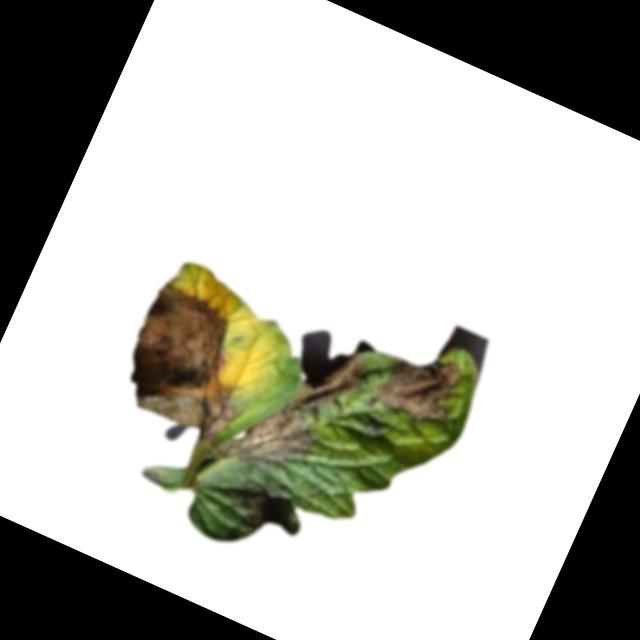Late_blight: (207, 314, 374, 505), (105, 277, 278, 451), (366, 334, 469, 433), (226, 469, 298, 535)
